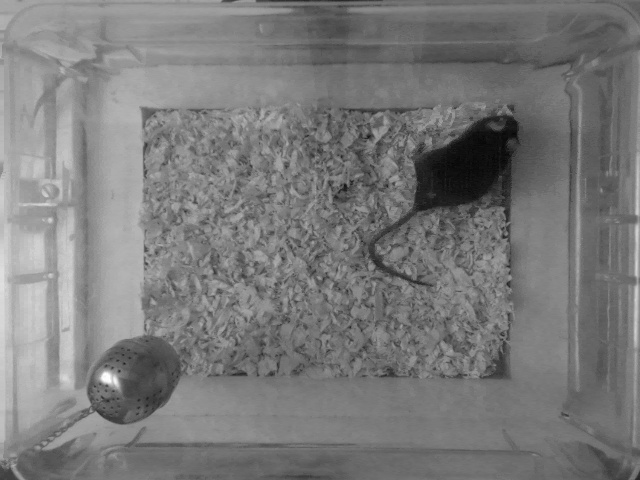mice: (369, 113, 523, 288)
